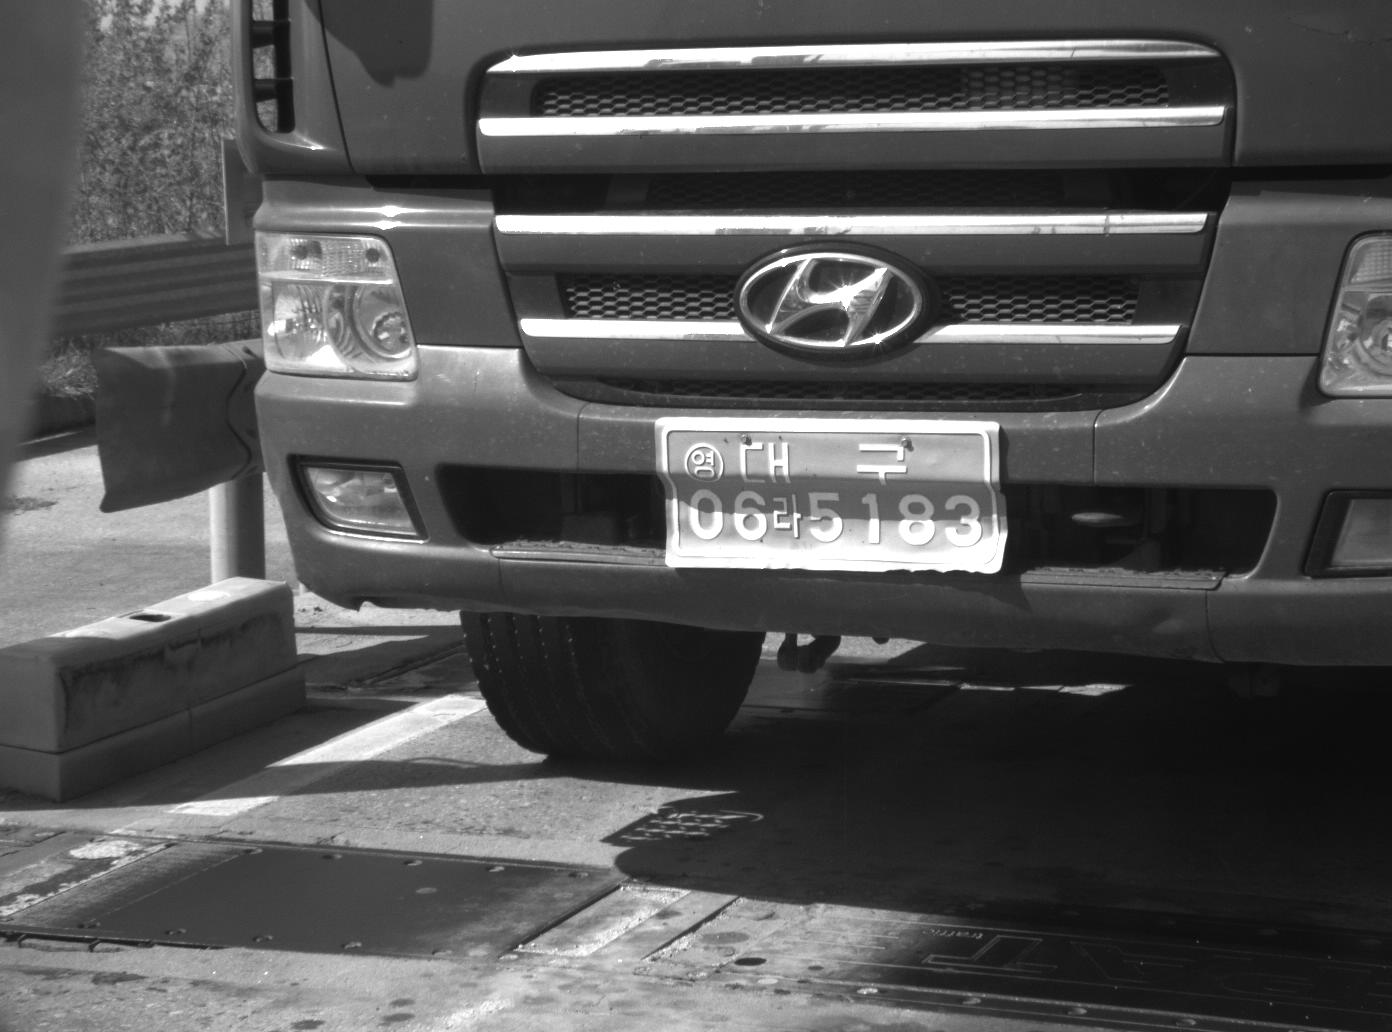car: (229, 1, 1392, 801)
plate: (657, 419, 1006, 575)
